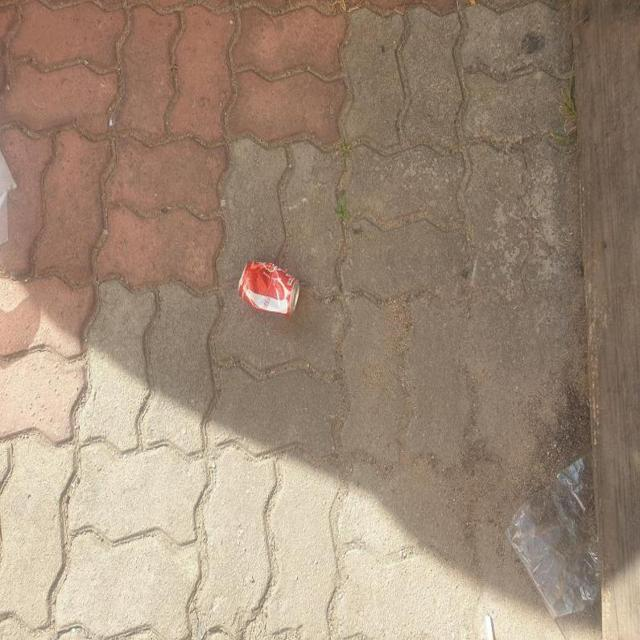can: (238, 261, 300, 318)
